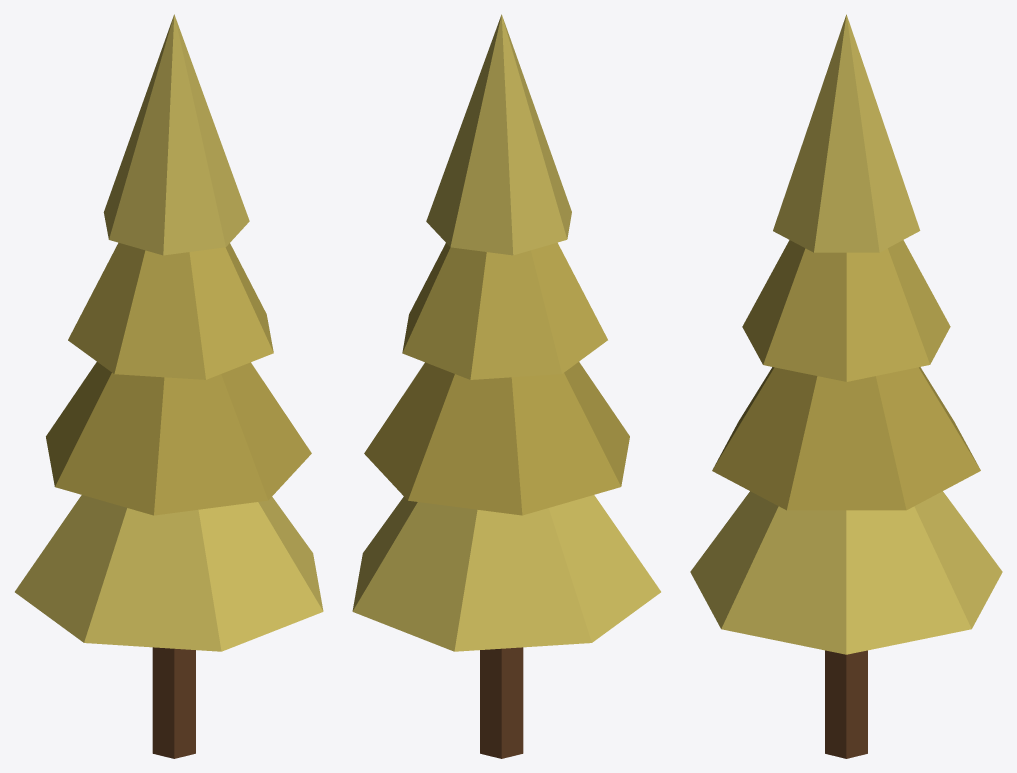
Rendered from SM_PineB_Y.glb.
The picture shows the model from 3 angles, left to right: view 1: azimuth 30°, elevation 25°; view 2: azimuth 150°, elevation 25°; view 3: azimuth 270°, elevation 25°; orthographic projection.
Parts seen in each view (by area): view 1: SM_PineB_Y; view 2: SM_PineB_Y; view 3: SM_PineB_Y.
Part boxes in pixels (x1=…): SM_PineB_Y: x1=15, y1=14, x2=323, y2=758; SM_PineB_Y: x1=352, y1=14, x2=660, y2=758; SM_PineB_Y: x1=690, y1=14, x2=1002, y2=758.
Bounding box in the file's own units: 3.42 × 9.1 × 3.51.
Materials: 1 (1 with a texture image).
